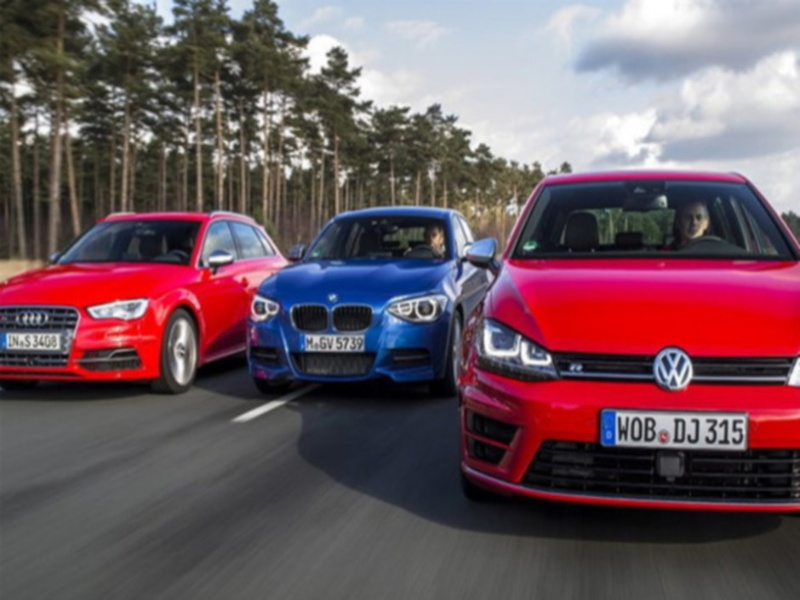car: (452, 170, 800, 516), (1, 210, 292, 394), (247, 205, 494, 394)
person: (673, 200, 710, 241), (420, 224, 445, 252)
plate: (600, 408, 747, 452), (302, 334, 364, 353), (2, 332, 60, 350)
